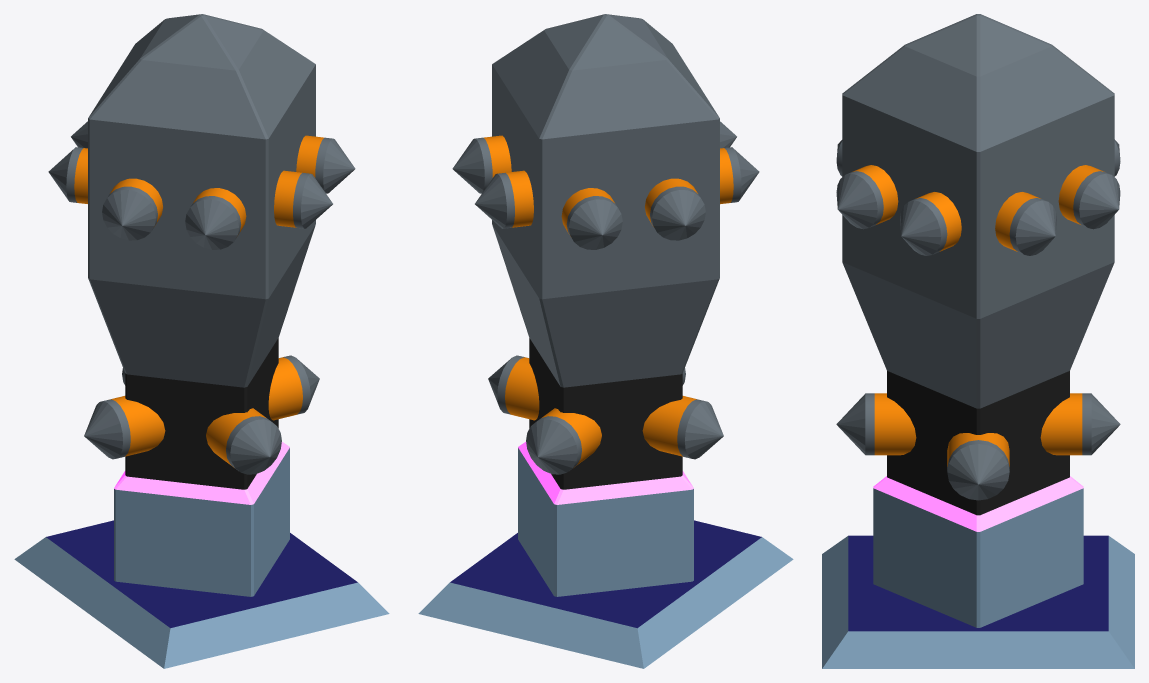
File: Waall_9.fbx
3 views of the same model, side by side, from view 1: azimuth 30°, elevation 25°; view 2: azimuth 150°, elevation 25°; view 3: azimuth 270°, elevation 25° (orthographic). The views are drawn at different scales.
Parts seen in each view (by area): view 1: waal_solid_9; view 2: waal_solid_9; view 3: waal_solid_9.
Boxes of the visible parts, bbox=[...] form: waal_solid_9: bbox=[14, 14, 389, 668]; waal_solid_9: bbox=[418, 14, 793, 668]; waal_solid_9: bbox=[822, 14, 1134, 668].
Size of the model in its own units: 35.81 by 82.86 by 39.36.
